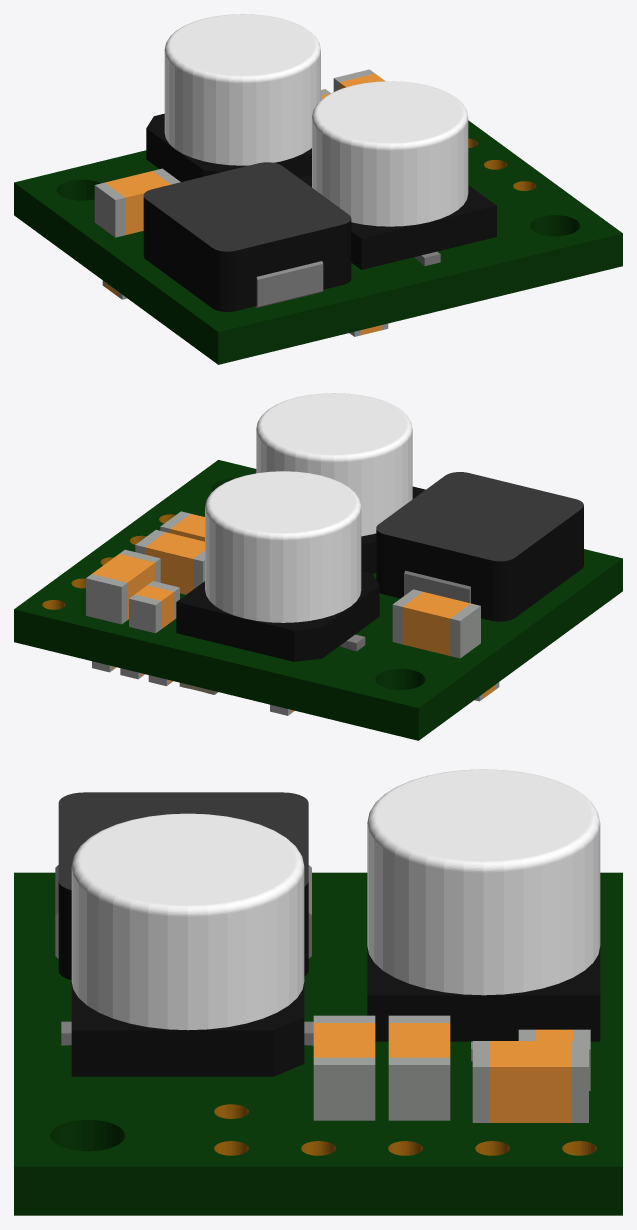
The model's file is pololu-d36v28f5.glb.
3 views of the same model, one above another, from view 1: azimuth 30°, elevation 25°; view 2: azimuth 150°, elevation 25°; view 3: azimuth 270°, elevation 25° (orthographic). The views are drawn at different scales.
Parts seen in each view (by area): view 1: pololu-d36v28f5; view 2: pololu-d36v28f5; view 3: pololu-d36v28f5.
Part boxes in pixels (box(x1,y1,x2,y2)): pololu-d36v28f5: box(14, 14, 622, 364); pololu-d36v28f5: box(14, 393, 622, 740); pololu-d36v28f5: box(14, 769, 622, 1215).
Bounding box in the file's own units: 20.32 × 8.77 × 17.78.
